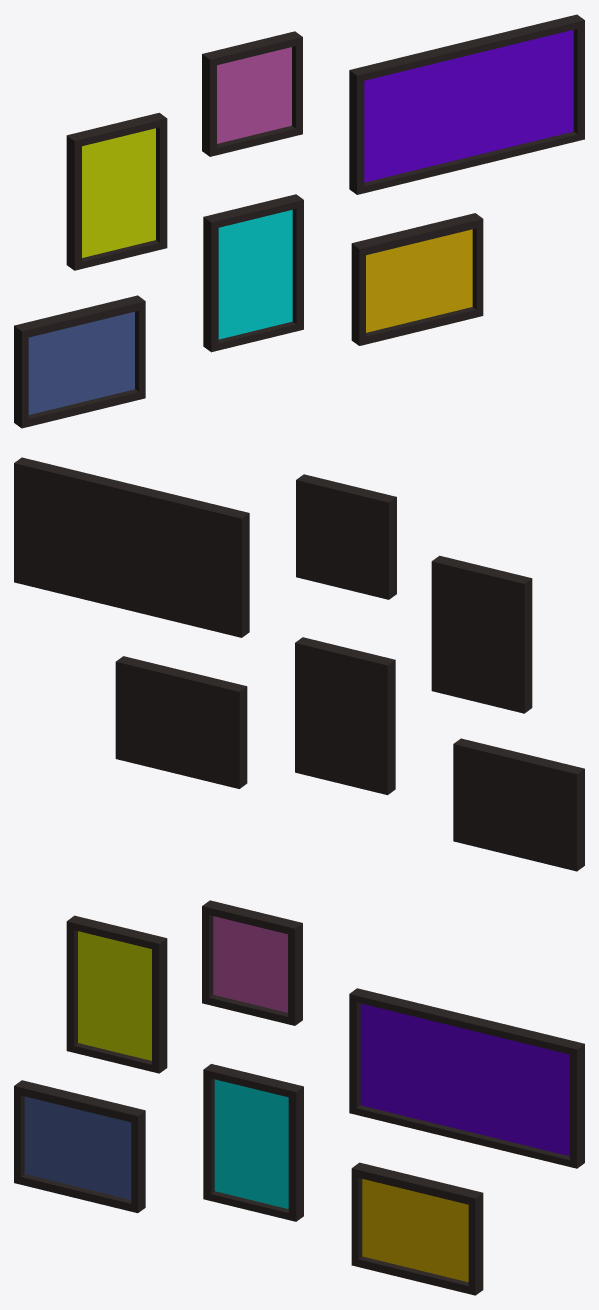
The model's file is lego people photo frame.fbx.
The picture shows the model from 3 angles, top to bottom: view 1: azimuth 30°, elevation 25°; view 2: azimuth 150°, elevation 25°; view 3: azimuth 330°, elevation 25°; orthographic projection.
Visible parts, largest first — view 1: pCube5, pCube4, pCube2, pCube1, pCube3, pCube6; view 2: pCube5, pCube4, pCube2, pCube1, pCube3, pCube6; view 3: pCube5, pCube4, pCube2, pCube1, pCube3, pCube6.
Boxes of the visible parts, bbox=[...] form: pCube5: bbox=[349, 14, 584, 194]; pCube4: bbox=[66, 112, 167, 270]; pCube2: bbox=[351, 213, 483, 345]; pCube1: bbox=[203, 194, 303, 352]; pCube3: bbox=[14, 295, 145, 428]; pCube6: bbox=[202, 31, 302, 156]; pCube5: bbox=[14, 457, 249, 637]; pCube4: bbox=[431, 555, 532, 713]; pCube2: bbox=[115, 656, 247, 788]; pCube1: bbox=[295, 637, 395, 795]; pCube3: bbox=[453, 738, 584, 871]; pCube6: bbox=[296, 474, 396, 599]; pCube5: bbox=[349, 988, 584, 1168]; pCube4: bbox=[66, 915, 167, 1073]; pCube2: bbox=[351, 1162, 483, 1295]; pCube1: bbox=[203, 1064, 303, 1221]; pCube3: bbox=[14, 1080, 145, 1213]; pCube6: bbox=[202, 900, 302, 1025].
Bounding box in the file's own units: 36.35 × 19.92 × 0.882.
